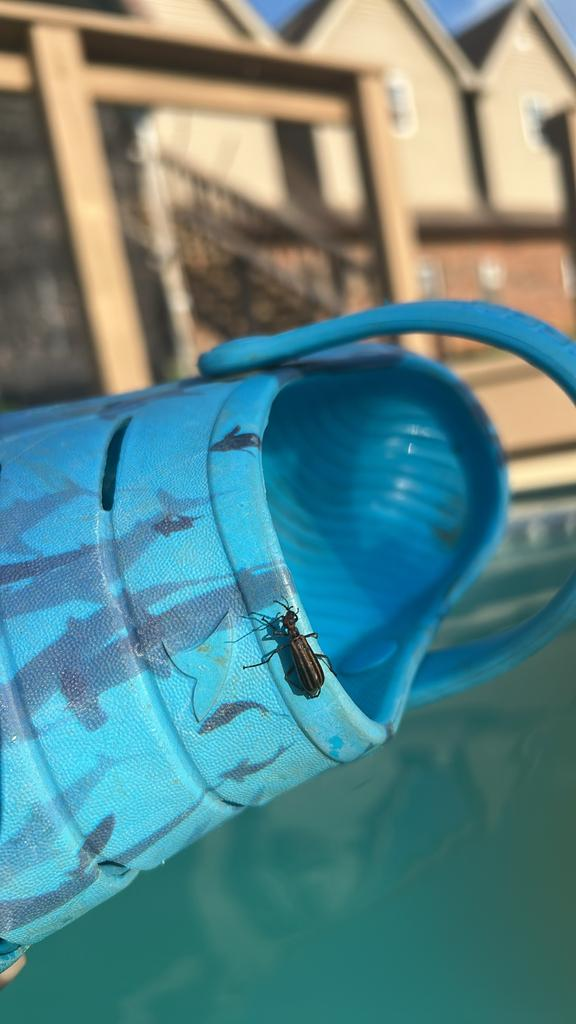blister_beetle: (228, 582, 367, 721)
